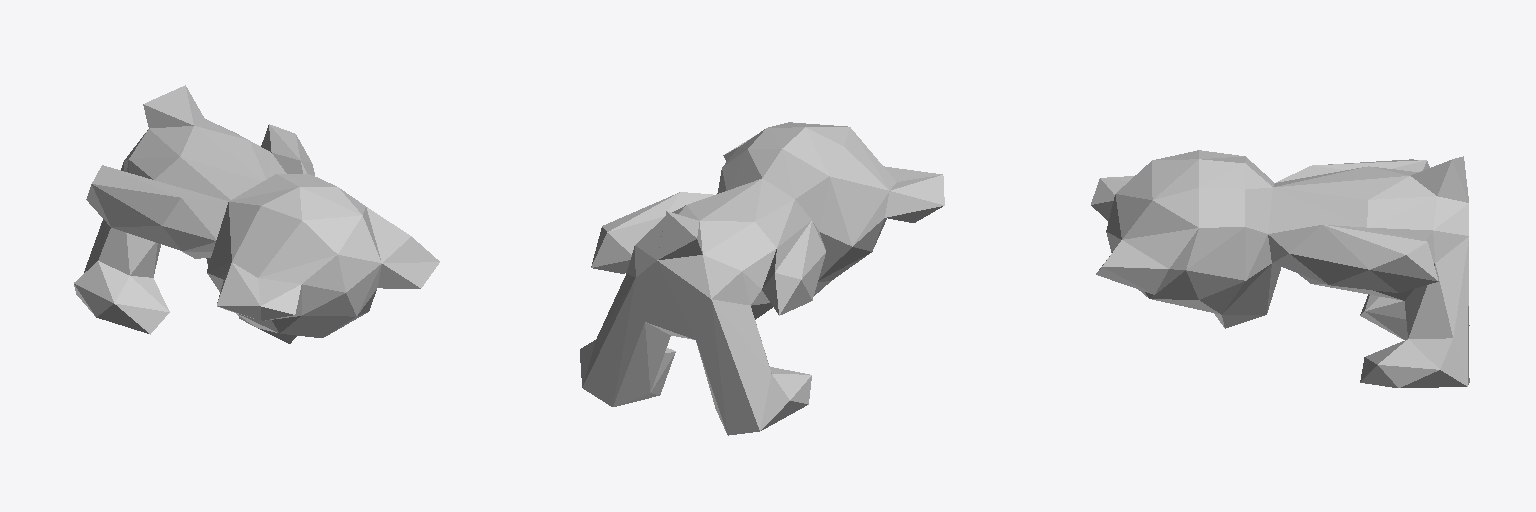
The model's file is tdy236.obj.
3 views of the same model, side by side, from view 1: azimuth 30°, elevation 25°; view 2: azimuth 150°, elevation 25°; view 3: azimuth 270°, elevation 25° (orthographic).
Visible parts, largest first — view 1: STL object; view 2: STL object; view 3: STL object.
Part boxes in pixels (left/top/right/bottom): STL object: left=74, top=85, right=439, bottom=343; STL object: left=580, top=122, right=944, bottom=435; STL object: left=1091, top=150, right=1469, bottom=387.
Size of the model in its own units: 38.3 by 35.2 by 58.05.